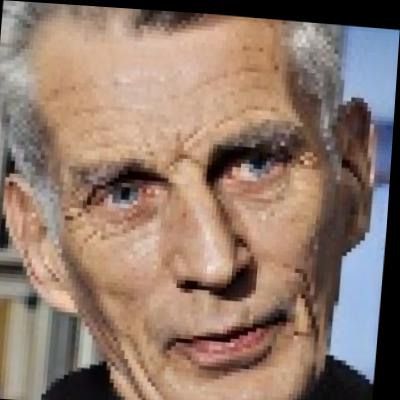sad: (14, 10, 368, 400)
